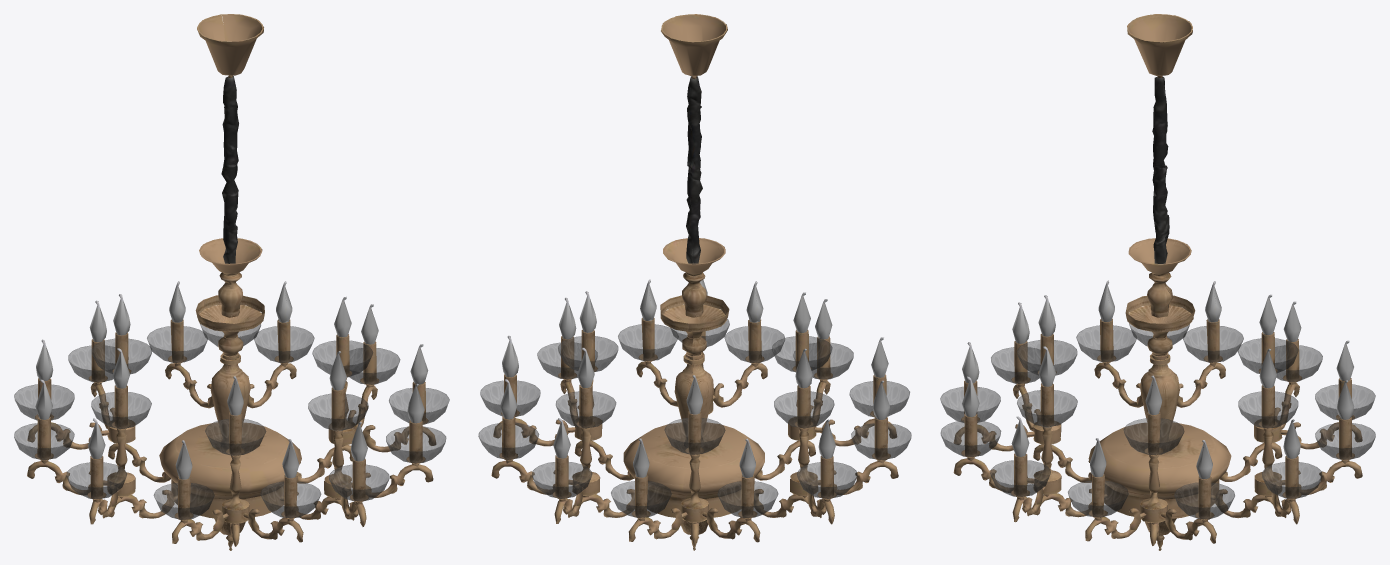
The model's file is chandelier.glb.
The picture shows the model from 3 angles, left to right: view 1: azimuth 30°, elevation 25°; view 2: azimuth 150°, elevation 25°; view 3: azimuth 270°, elevation 25°; orthographic projection.
Visible parts, largest first — view 1: Chandelier_03; view 2: Chandelier_03; view 3: Chandelier_03.
Boxes of the visible parts, x1,y1,x2,y2 form: Chandelier_03: (14,14,449,550); Chandelier_03: (478,14,911,550); Chandelier_03: (940,14,1375,550).
Bounding box in the file's own units: 0.7816 × 1.04 × 0.7867.
Materials: 2 (2 with a texture image).
